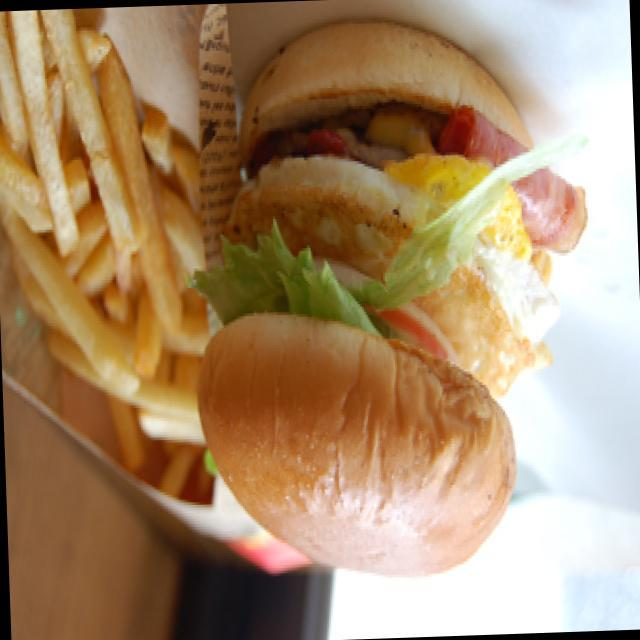French Fries: (0, 4, 208, 445)
Hamburger: (180, 11, 599, 604)
